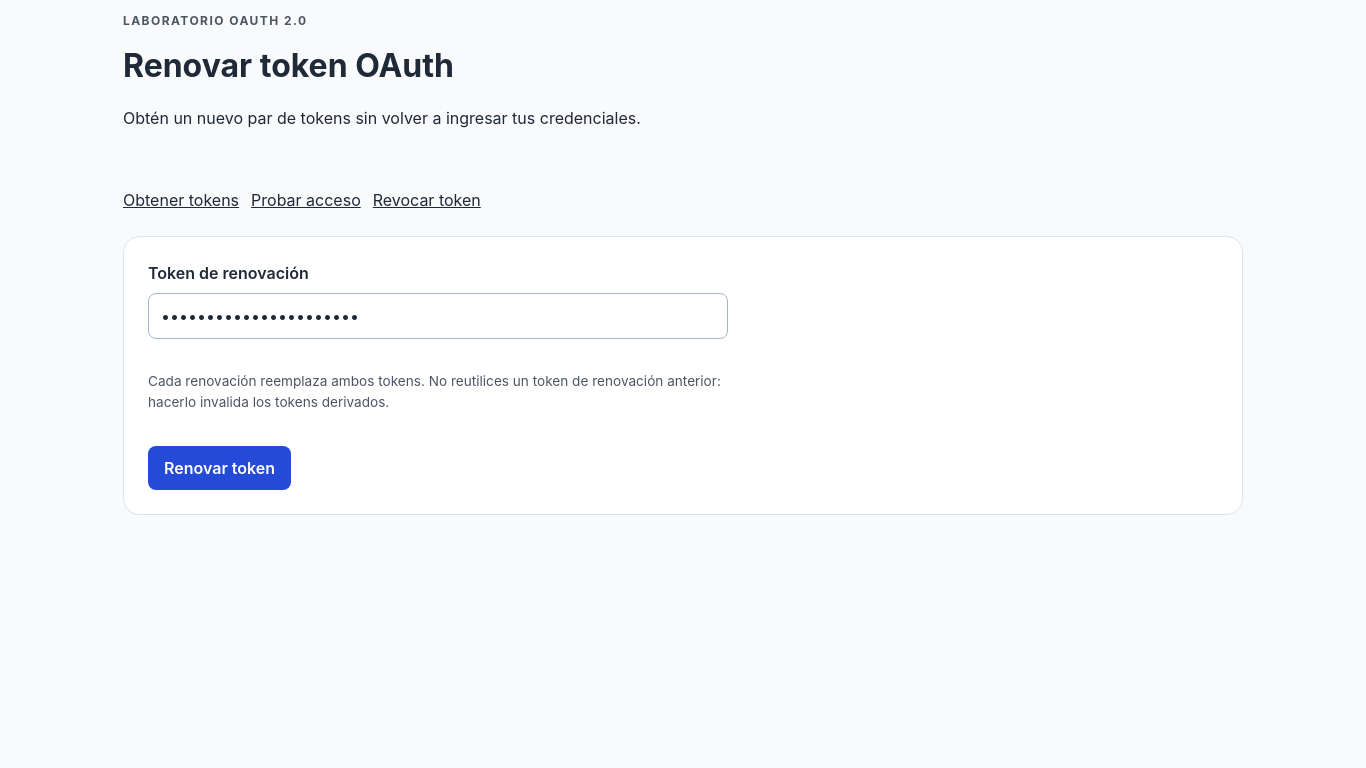
Scenario: renueva ambos tokens en memoria, permite otra renovación y limpia la sesión al salir
What coordinates should you click on to do the following:
click the button "Renovar token"
I would click on:
 (220, 468)
Its box is [148,446,291,490].
(page scrolled)
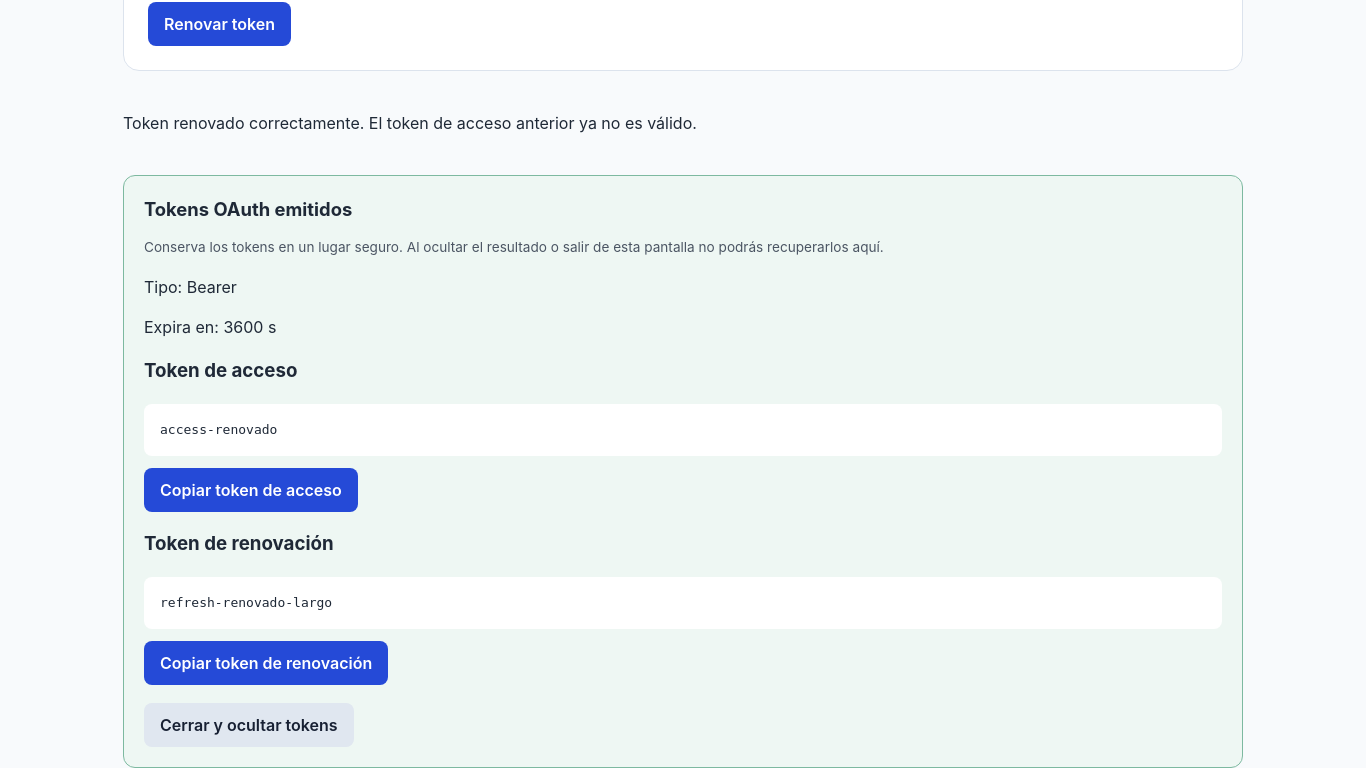
Now the text "access-renovado" is shown, box [144,404,1222,456]
Now the text "refresh-renovado-largo" is shown, box [144,577,1222,629]
What coordinates should you click on to do the following:
click the button "Cerrar y ocultar tokens"
I would click on:
 (249, 725)
Its box is [144,703,354,747].
(page scrolled)
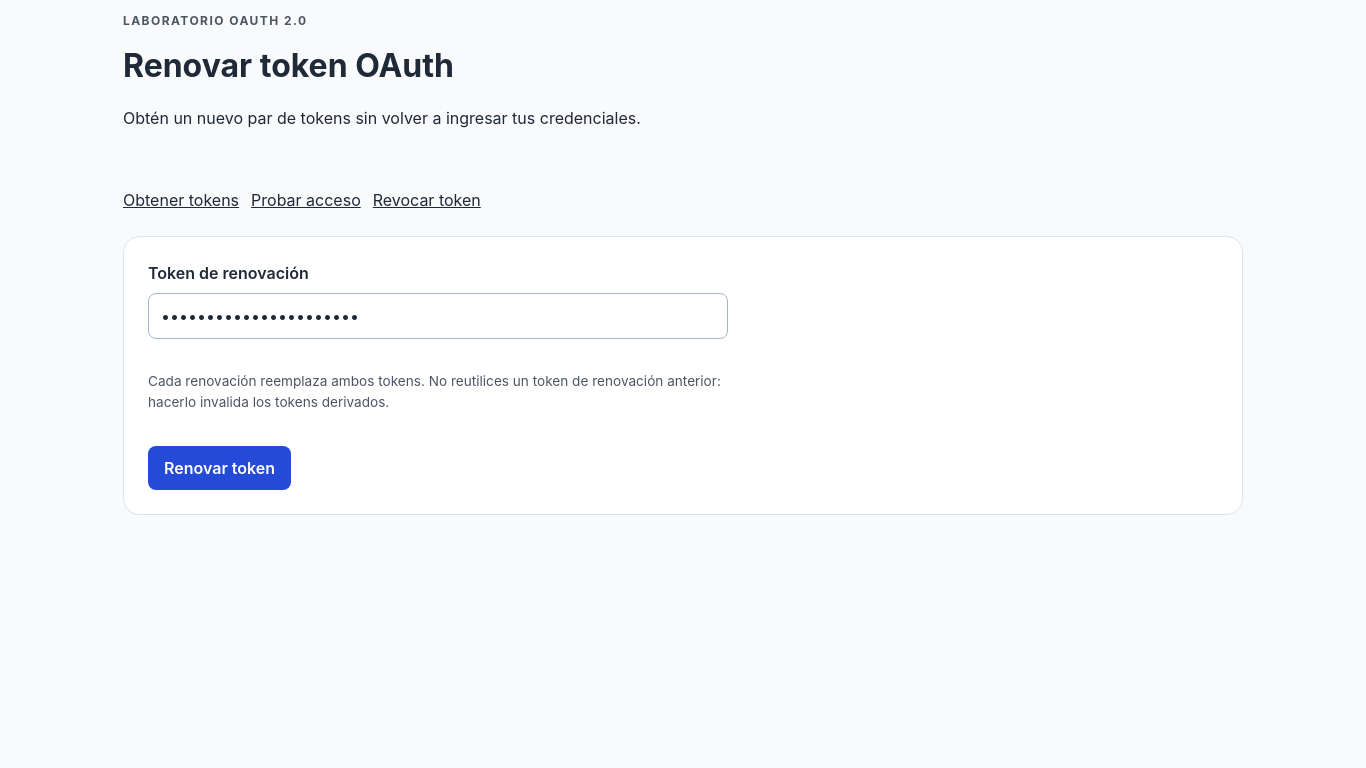
Now the text "access-renovado" is gone
